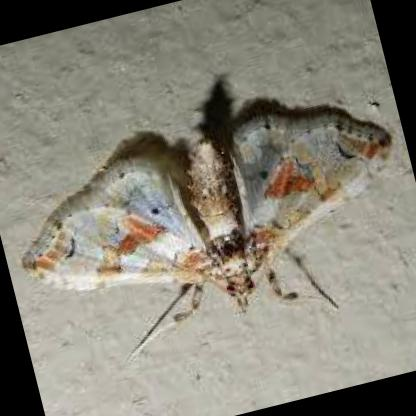leucinodes: (18, 113, 394, 309)
